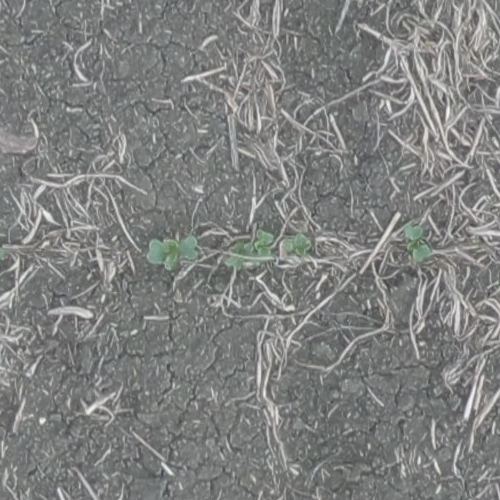plant: (224, 228, 271, 268), (148, 235, 196, 270), (402, 226, 429, 266), (281, 228, 309, 263), (0, 240, 4, 275)
